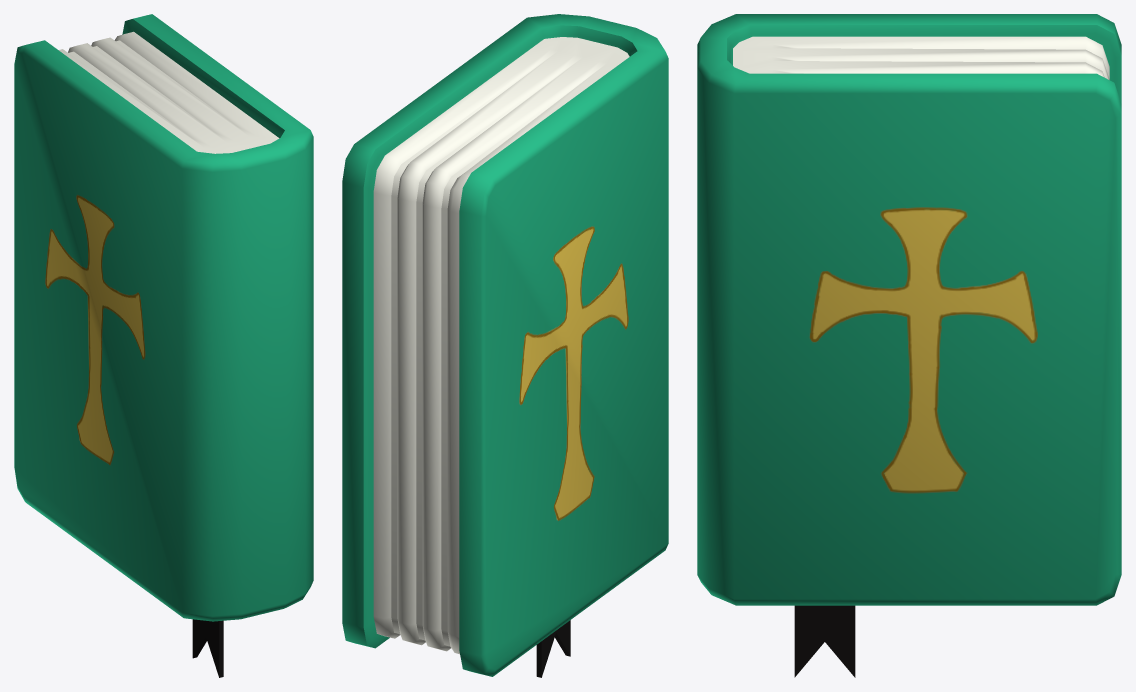
The model's file is BookB.fbx.
The picture shows the model from 3 angles, left to right: view 1: azimuth 30°, elevation 25°; view 2: azimuth 150°, elevation 25°; view 3: azimuth 270°, elevation 25°; orthographic projection. The views are drawn at different scales.
Visible parts, largest first — view 1: Book B; view 2: Book B; view 3: Book B.
Boxes of the visible parts, x1,y1,x2,y2 form: Book B: (14,14,313,677); Book B: (342,14,668,677); Book B: (697,14,1121,677).
Bounding box in the file's own units: 0.2134 × 0.8547 × 0.524.
